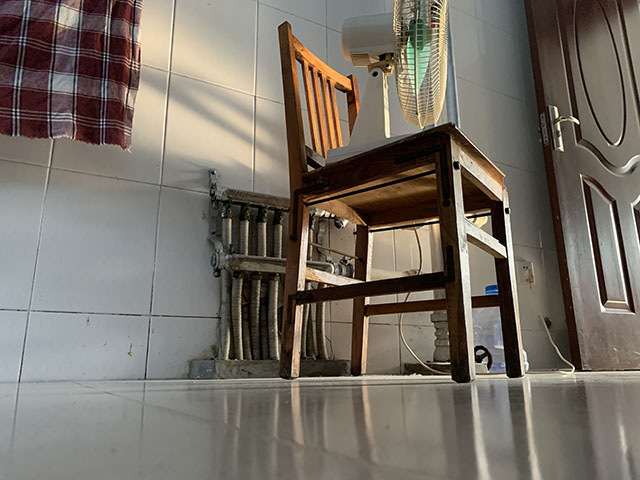stool: (275, 19, 527, 385)
wire: (396, 222, 577, 376)
